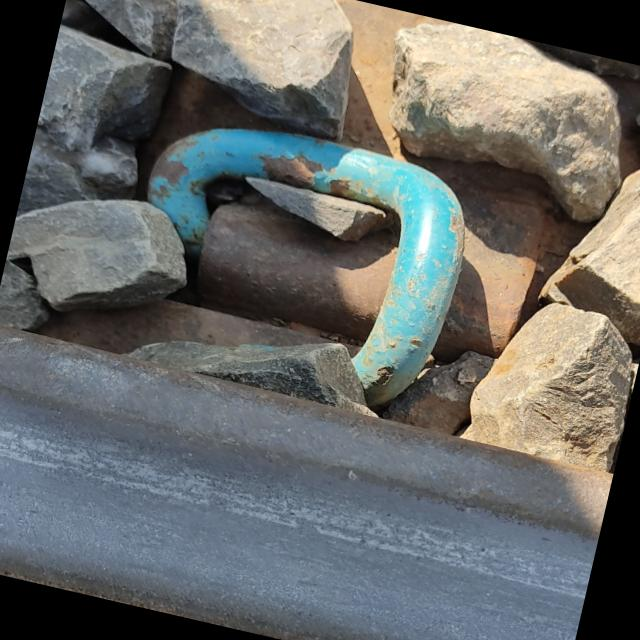track_bolt: (98, 90, 493, 428)
